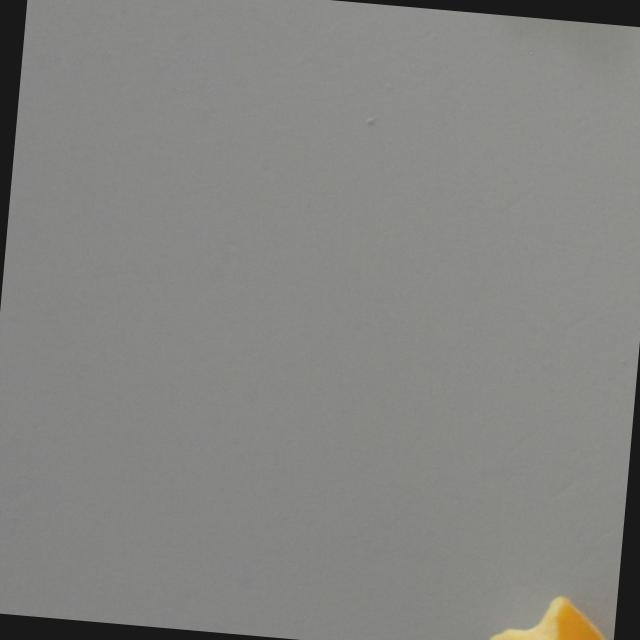pelicula: (487, 586, 617, 640)
